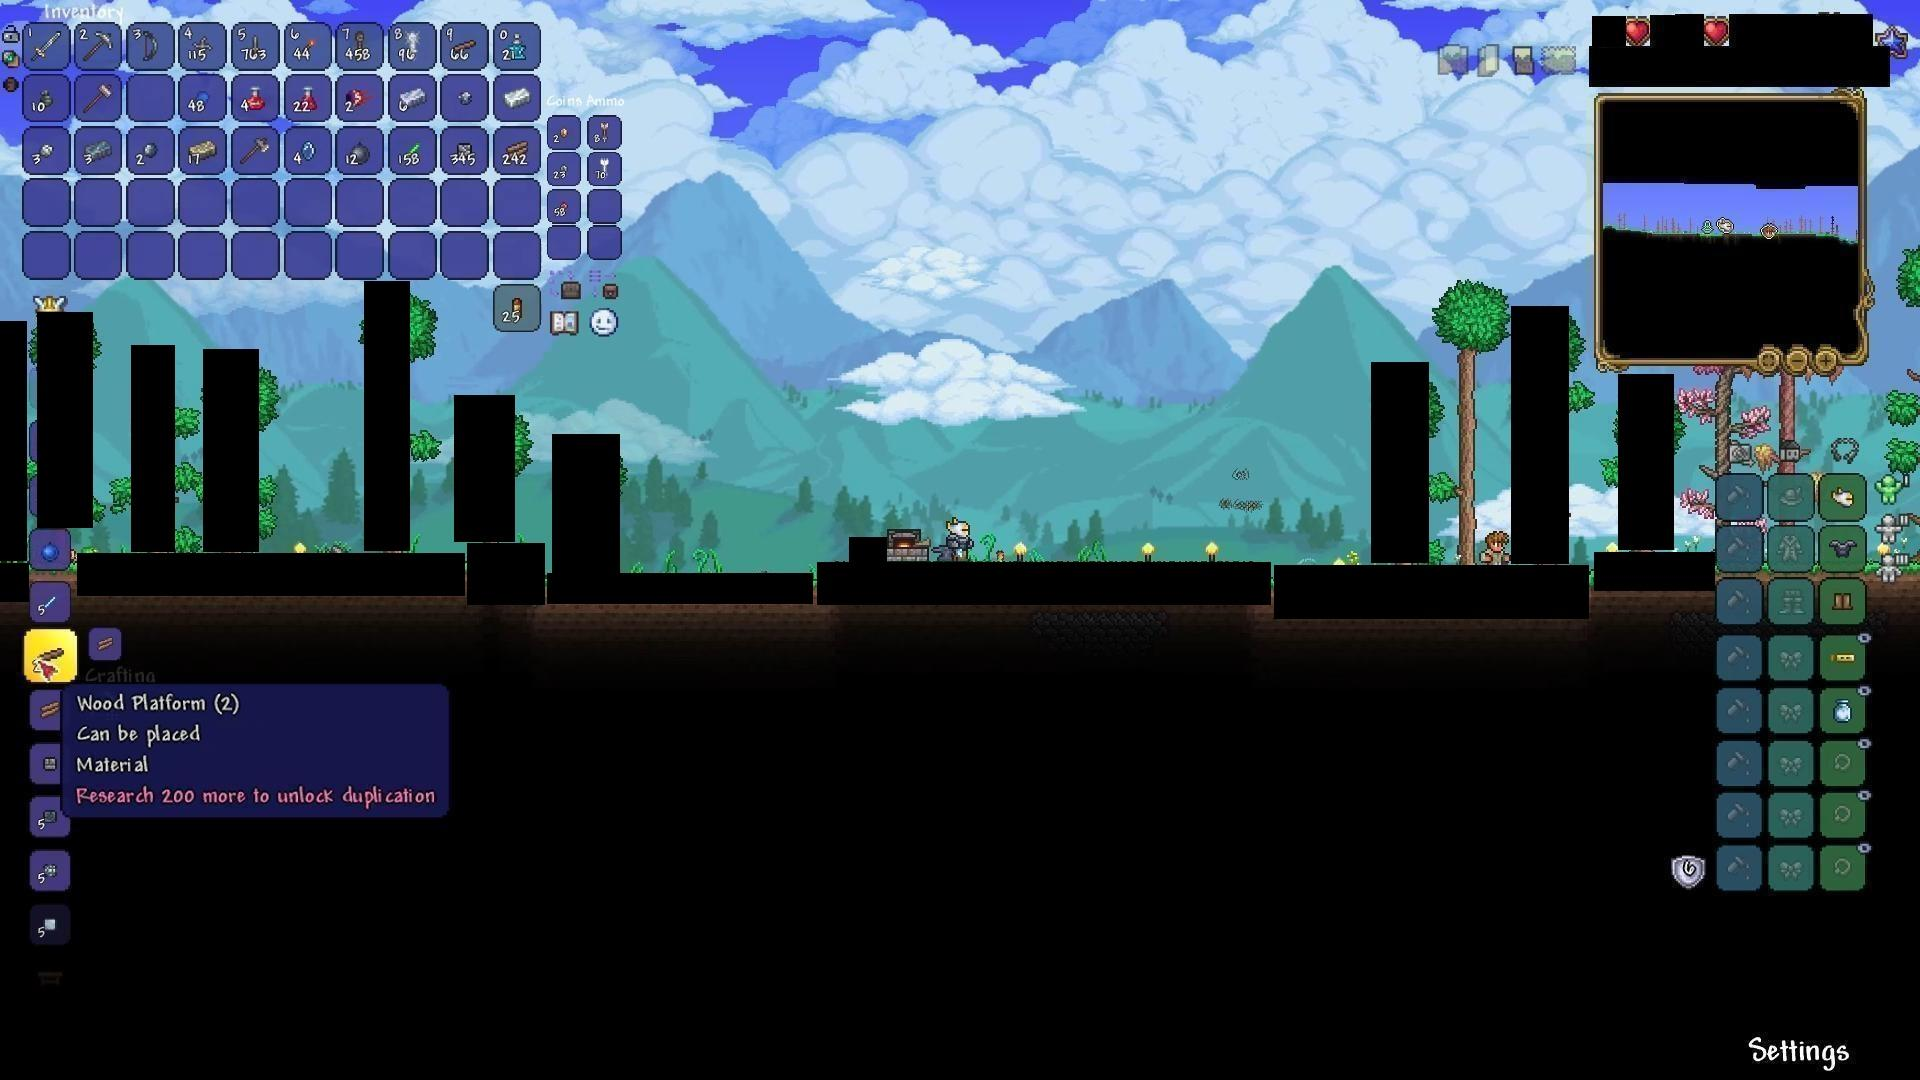breastplate: (1830, 539, 1857, 559)
heart: (1702, 17, 1733, 51), (1625, 15, 1651, 44)
legs: (1830, 589, 1857, 615)
tree: (1429, 277, 1502, 562)
wood: (500, 138, 530, 167), (90, 632, 117, 658), (36, 698, 61, 720)
